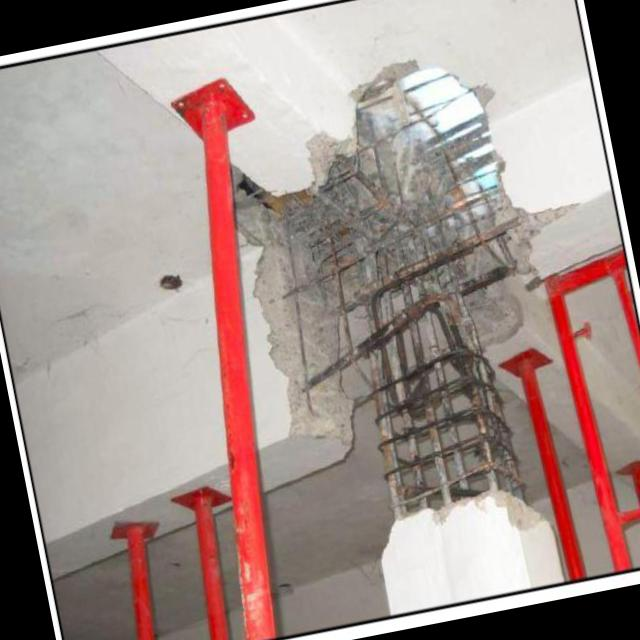spalling: (232, 55, 581, 527)
